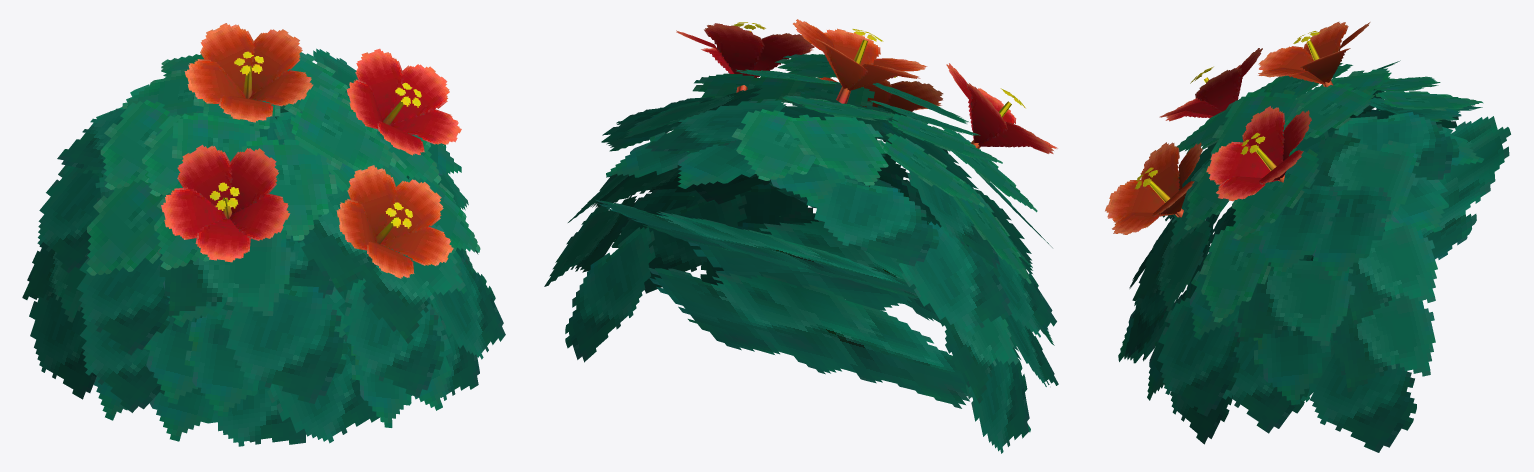
Rendered from bush-red-hibiscus.glb.
3 renders of one model, left to right at view 1: azimuth 30°, elevation 25°; view 2: azimuth 150°, elevation 25°; view 3: azimuth 270°, elevation 25°, orthographic. The views are drawn at different scales.
Bounding box in the file's own units: 10.76 × 9.1 × 10.02.
Materials: 2 (2 with a texture image).
